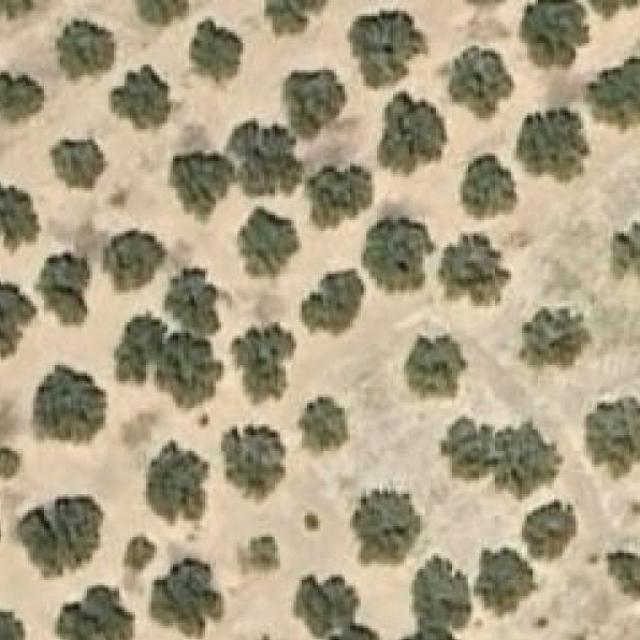Tree: (17, 497, 103, 576), (344, 9, 428, 89), (144, 437, 211, 532), (361, 217, 434, 301), (296, 574, 386, 640), (436, 46, 514, 122), (436, 234, 514, 309), (34, 363, 106, 443), (152, 558, 224, 637), (221, 424, 289, 505), (516, 108, 590, 182), (232, 120, 305, 193), (350, 488, 420, 564), (498, 417, 566, 495), (380, 91, 445, 172), (232, 322, 296, 403), (522, 0, 589, 68), (300, 268, 364, 338), (586, 397, 640, 478), (286, 70, 348, 140), (305, 166, 373, 229), (238, 206, 296, 279), (473, 548, 536, 615), (33, 252, 90, 326), (412, 558, 472, 628), (586, 59, 640, 134), (57, 587, 132, 640), (103, 231, 165, 295), (404, 333, 466, 397), (111, 64, 170, 129), (522, 309, 589, 366), (114, 312, 167, 384), (460, 154, 518, 218), (168, 266, 221, 334), (445, 413, 498, 481), (168, 336, 219, 406), (58, 21, 117, 80), (189, 18, 243, 81), (50, 138, 109, 195), (522, 499, 579, 558), (0, 279, 39, 360), (173, 153, 232, 204), (0, 64, 44, 127), (300, 397, 348, 451), (262, 0, 330, 38), (0, 183, 39, 247), (610, 214, 640, 281), (238, 534, 280, 578), (605, 547, 640, 599), (137, 0, 189, 28), (577, 0, 640, 19), (0, 0, 44, 21), (125, 540, 149, 572), (0, 609, 23, 640), (0, 448, 20, 478), (305, 512, 321, 532)
